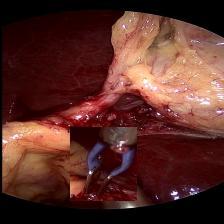Bipolar: (69, 127, 136, 201)
